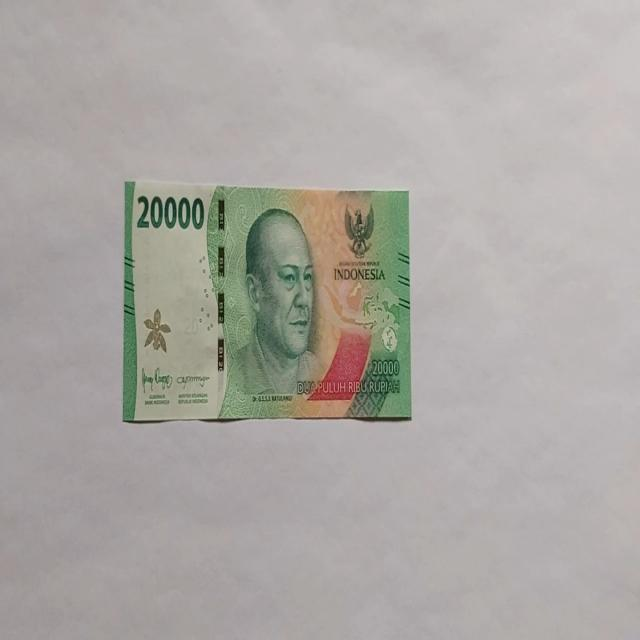dua puluh ribu rupiah: (122, 178, 412, 424), (220, 205, 327, 416)
